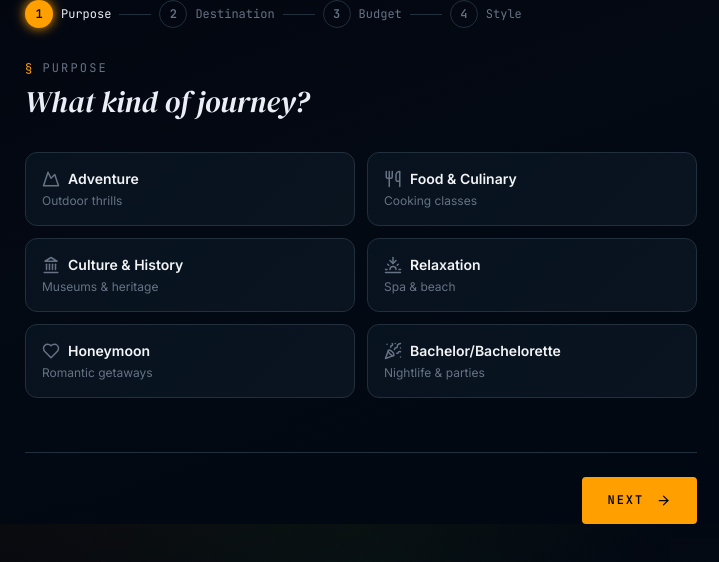
Test: PlanWizard › shows validation errors on step 3 when budget/interests missing
The image size is (719, 562).
Click the button "Adventure Outdoor thrills".
click(103, 178)  # box [25, 152, 355, 226]
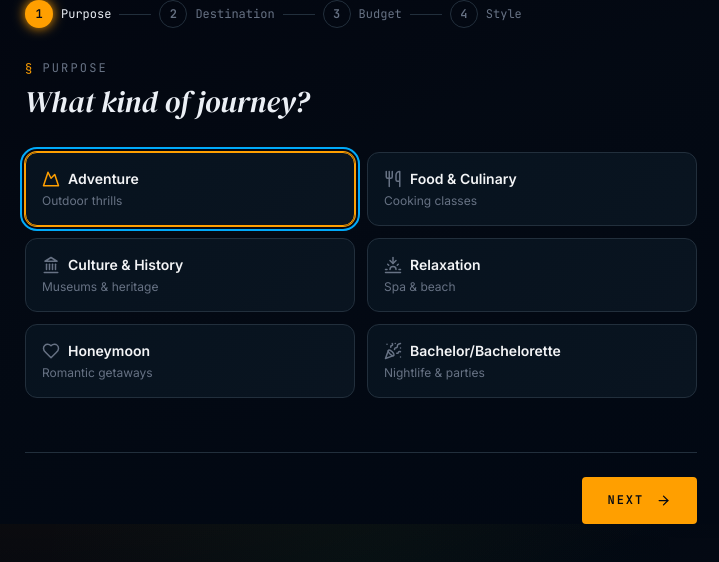
Click the button "Next".
click(639, 500)  # box [582, 477, 697, 524]
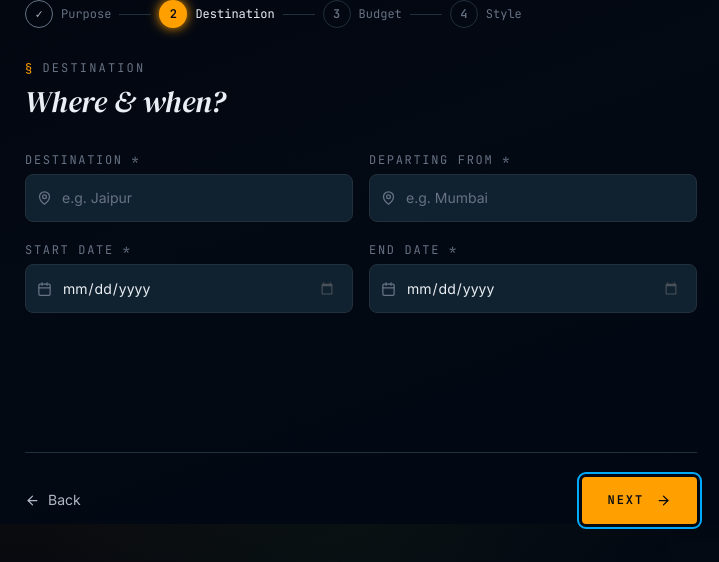
Type "Delhi" into the field with placeholder "e.g. Mumbai".
click(533, 198); type("Delhi")  # box [369, 174, 697, 222]
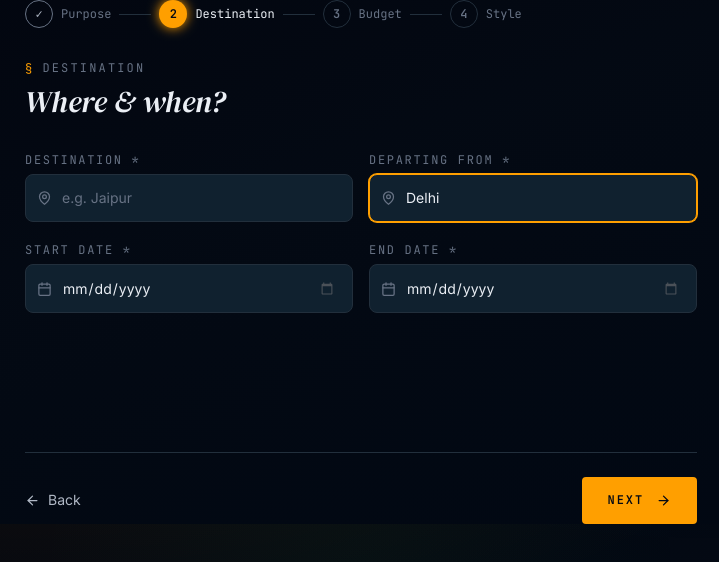
Type "Tokyo" into the field with placeholder "e.g. Jaipur".
click(189, 198); type("Tokyo")  # box [25, 174, 353, 222]
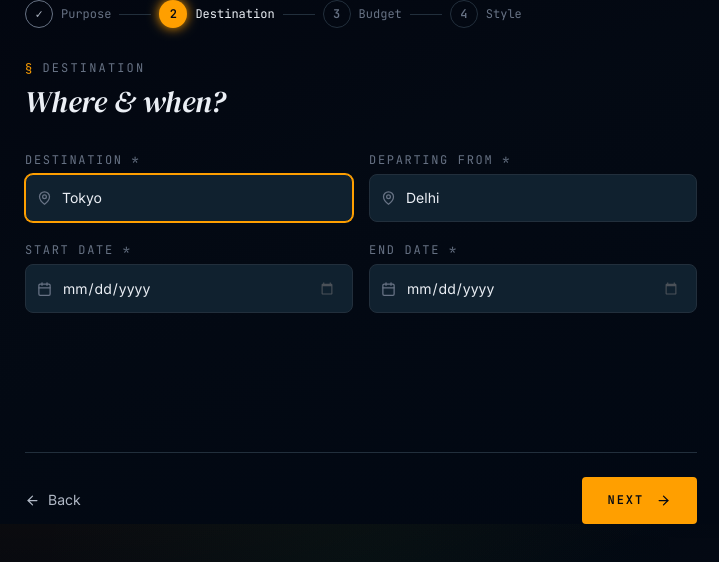
Type "2026-10-01" into the date field below "Start Date *".
click(189, 289); type("2026-10-01")  # box [25, 264, 353, 313]
Type "2026-10-05" into the date field below "End Date *".
click(533, 289); type("2026-10-05")  # box [369, 264, 697, 313]
Click the button "Next".
click(639, 500)  # box [582, 477, 697, 524]
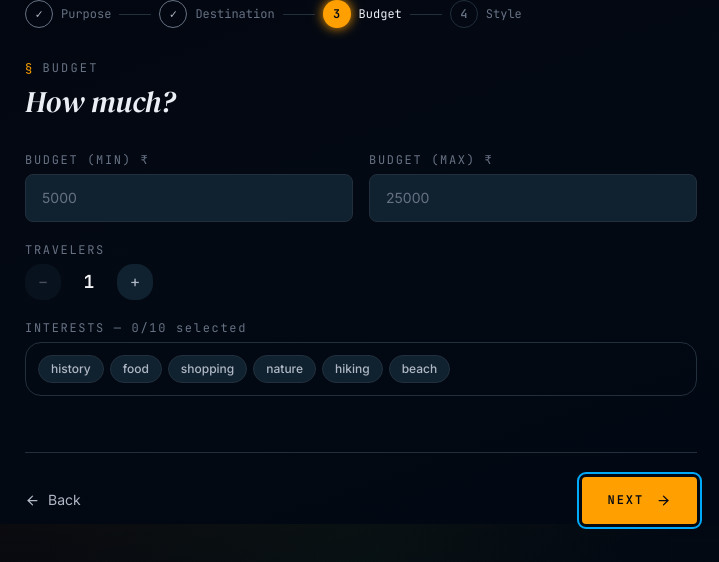
Click the button "Next".
click(639, 500)  # box [582, 477, 697, 524]
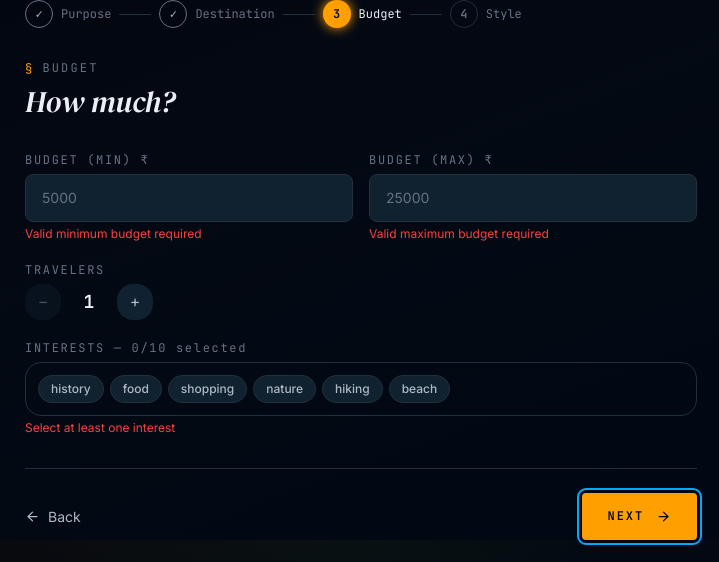
Result: the text "Valid minimum budget required" is shown at [25, 226, 202, 241]
Result: the text "Select at least one interest" is shown at [25, 420, 175, 435]
